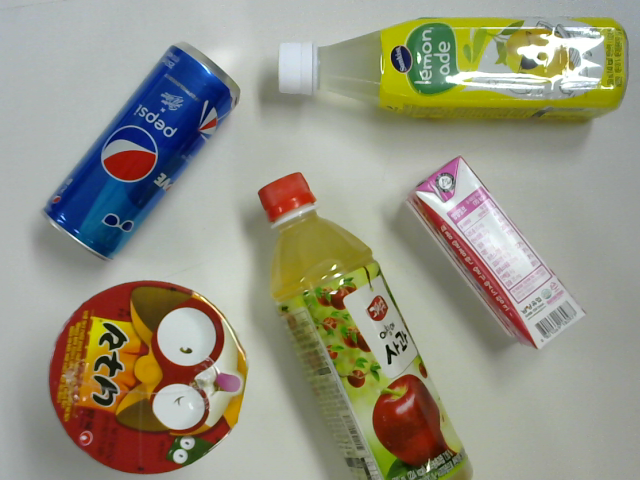Morning_Apple_500ml: (255, 172, 469, 480)
Pepsi_Cola_Can_250ml: (39, 38, 239, 254)
Raccoon: (51, 288, 247, 478)
Strawberry_E_Mong: (411, 154, 591, 356)
Sunkist_Lemonaid_Pet: (275, 18, 629, 140)
